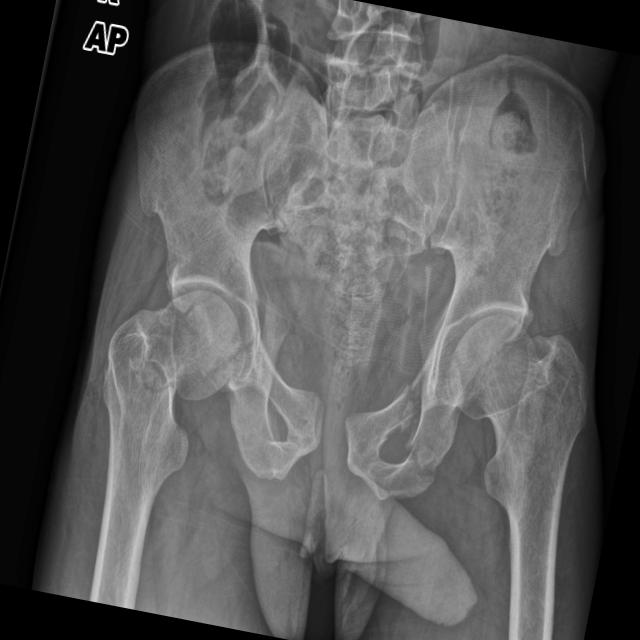normal-left: (450, 314, 589, 640)
right-neck: (95, 308, 188, 583), (160, 290, 241, 400)
